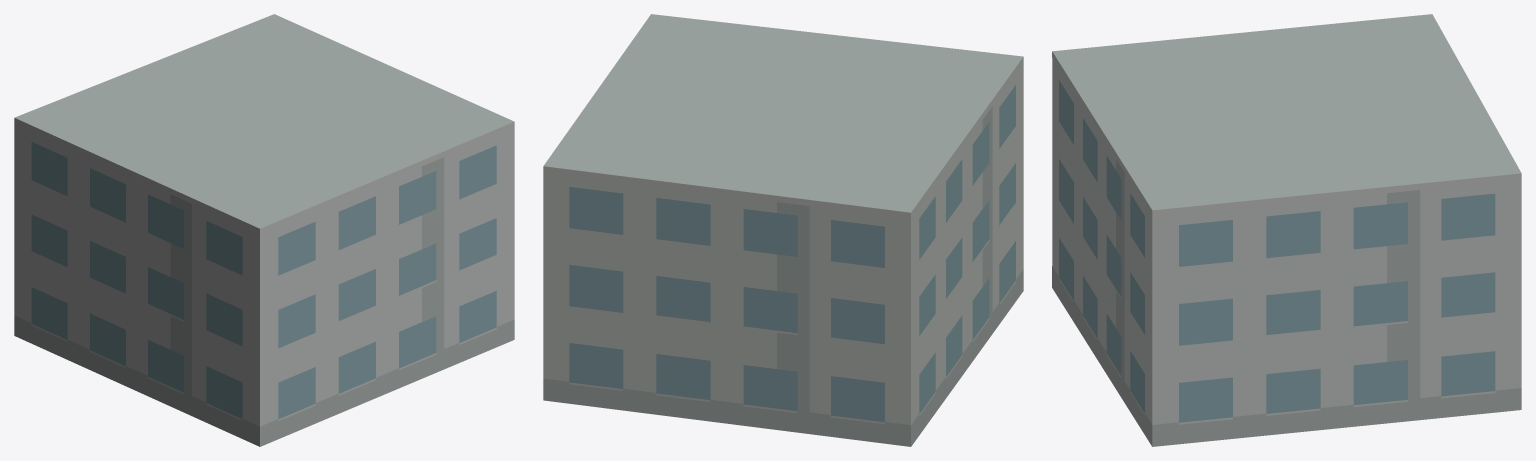
File: survey-upis-33033829.glb
3 renders of one model, left to right at view 1: azimuth 30°, elevation 25°; view 2: azimuth 150°, elevation 25°; view 3: azimuth 270°, elevation 25°, orthographic. The views are drawn at different scales.
Visible parts, largest first — view 1: survey-upis-33033829.tmp; view 2: survey-upis-33033829.tmp; view 3: survey-upis-33033829.tmp.
Part boxes in pixels (x1,y1,x2,y2): survey-upis-33033829.tmp: (14, 14, 514, 446); survey-upis-33033829.tmp: (543, 14, 1023, 446); survey-upis-33033829.tmp: (1052, 14, 1521, 446).
Bounding box in the file's own units: 16.31 × 9.15 × 16.48.
